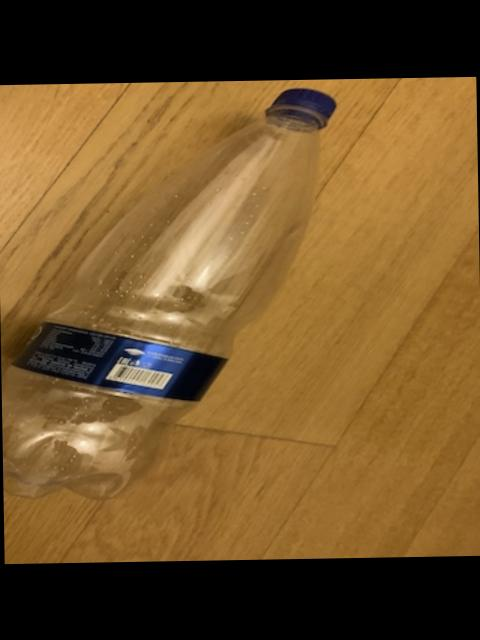plastic: (1, 90, 331, 499)
